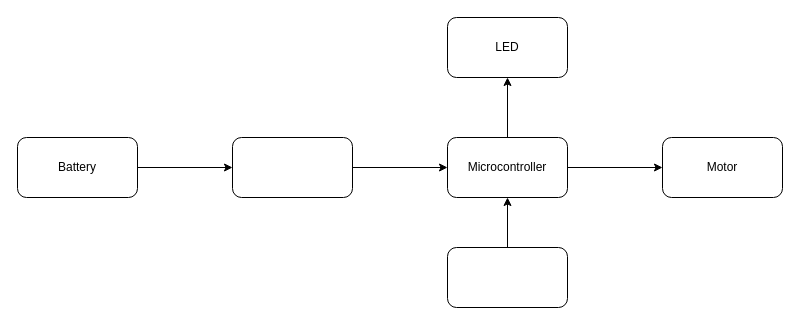
This 800x325 diagram has some shape labels left out. The centre of each missing label's shape, as x and y in pixels:
Button: (x=507, y=277)
On/Off Switch: (x=292, y=167)
